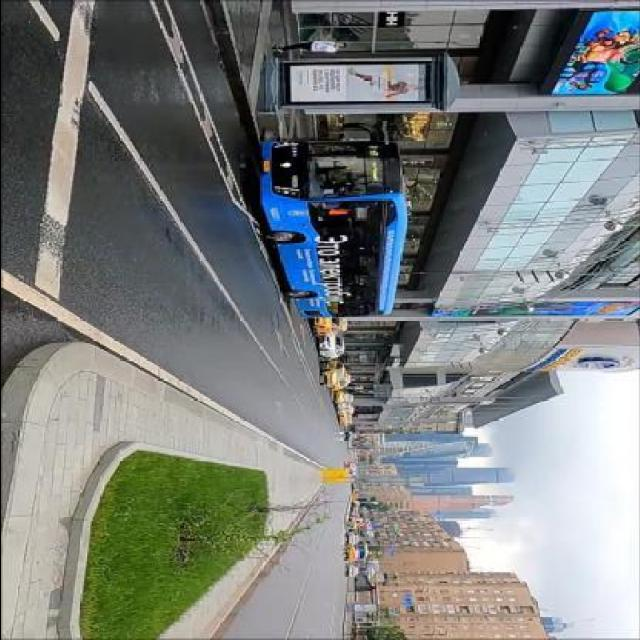bus: (252, 137, 408, 320)
